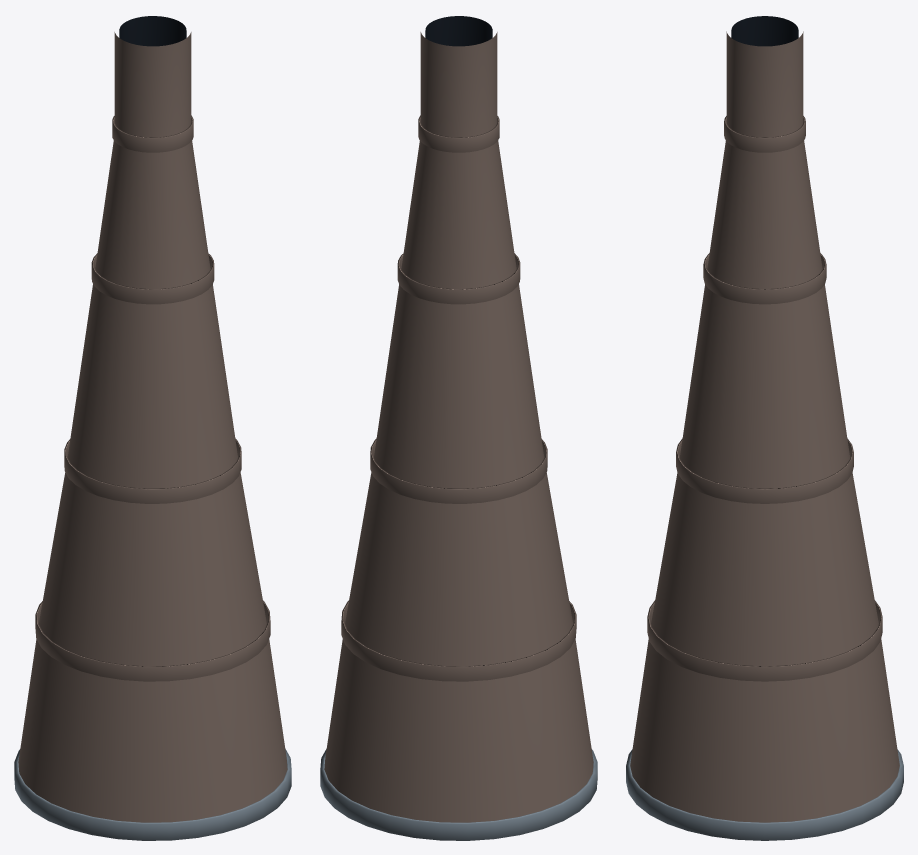
The model's file is merlin_1d_engine.glb.
3 renders of one model, left to right at view 1: azimuth 30°, elevation 25°; view 2: azimuth 150°, elevation 25°; view 3: azimuth 270°, elevation 25°, orthographic.
Parts seen in each view (by area): view 1: falcon9_stage_1merlin_01bellmesh_Heat-stained_alloy, falcon9_stage_1merlin_01bellmesh_Machined_steel, falcon9_stage_1merlin_01bellmesh_Shadowed_interior; view 2: falcon9_stage_1merlin_01bellmesh_Heat-stained_alloy, falcon9_stage_1merlin_01bellmesh_Machined_steel, falcon9_stage_1merlin_01bellmesh_Shadowed_interior; view 3: falcon9_stage_1merlin_01bellmesh_Heat-stained_alloy, falcon9_stage_1merlin_01bellmesh_Machined_steel, falcon9_stage_1merlin_01bellmesh_Shadowed_interior.
Part boxes in pixels (x1,y1,x2,y2): falcon9_stage_1merlin_01bellmesh_Heat-stained_alloy: (18,32,287,822); falcon9_stage_1merlin_01bellmesh_Machined_steel: (14,749,291,840); falcon9_stage_1merlin_01bellmesh_Shadowed_interior: (119,16,186,46); falcon9_stage_1merlin_01bellmesh_Heat-stained_alloy: (324,32,593,822); falcon9_stage_1merlin_01bellmesh_Machined_steel: (320,749,597,840); falcon9_stage_1merlin_01bellmesh_Shadowed_interior: (425,16,492,46); falcon9_stage_1merlin_01bellmesh_Heat-stained_alloy: (630,31,899,822); falcon9_stage_1merlin_01bellmesh_Machined_steel: (626,749,903,840); falcon9_stage_1merlin_01bellmesh_Shadowed_interior: (731,16,798,46).
Bounding box in the file's own units: 0.9108 × 2.72 × 0.9108.
